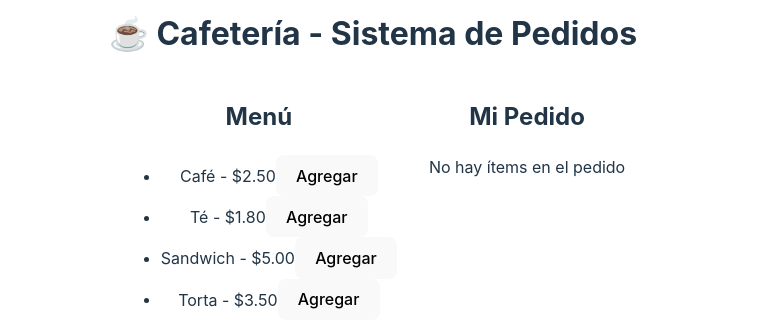
Scenario: App - HU6: Casos límite › debe manejar error al enviar pedido
The width and height of the screenshot is (769, 326).
Expected: the text "Café - $2.50" is shown, [180,166,276,186]
Click the button "Agregar" in the row of "Café" at (327, 176), box [276,155,378,196]
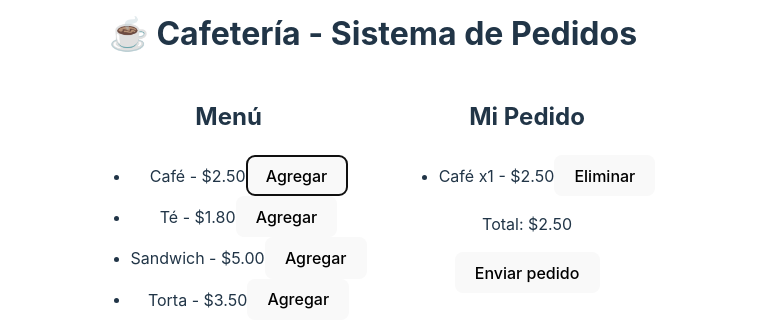
Click the button "Enviar pedido" at (527, 273), box [455,252,600,293]
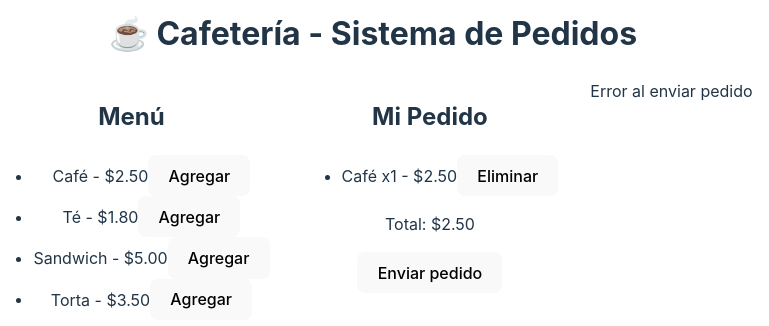
Expected: the text "Error al enviar pedido" is shown, [590,81,752,101]
